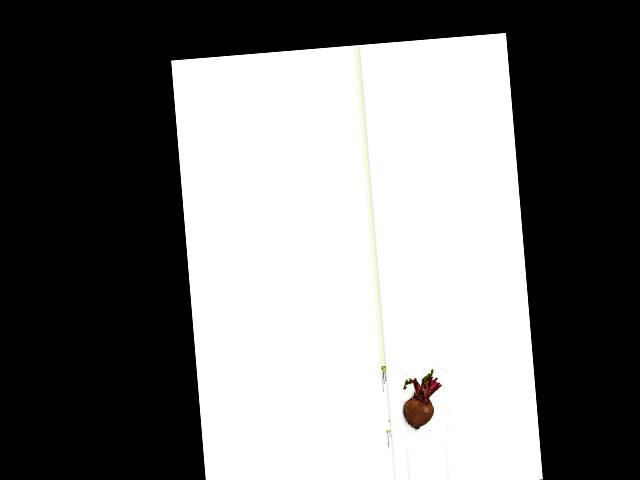beet: (400, 369, 444, 430)
